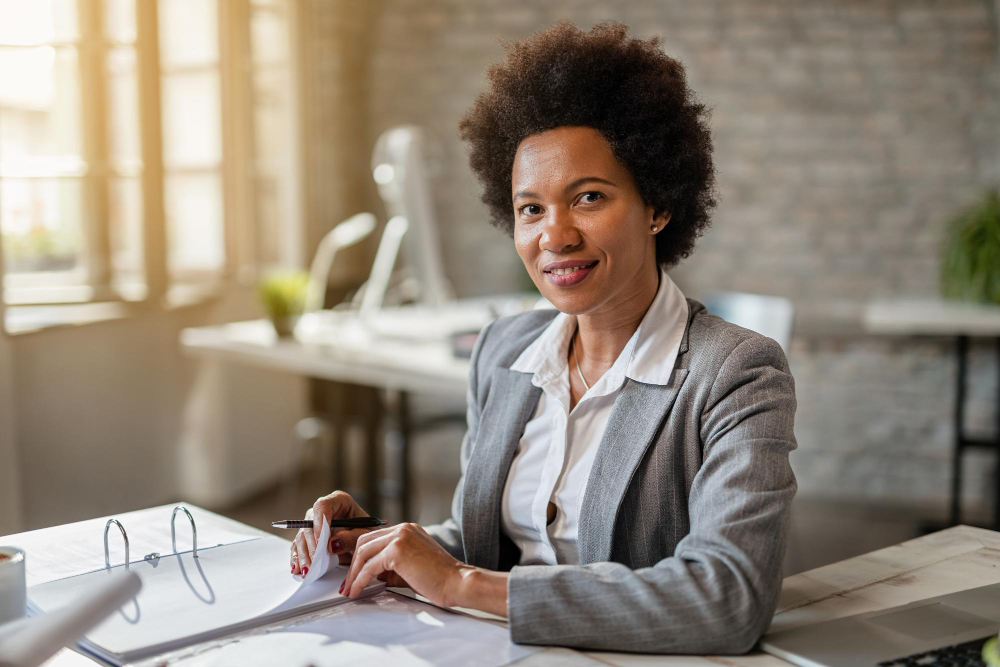no-gloves: (341, 526, 459, 613), (288, 490, 361, 580)
